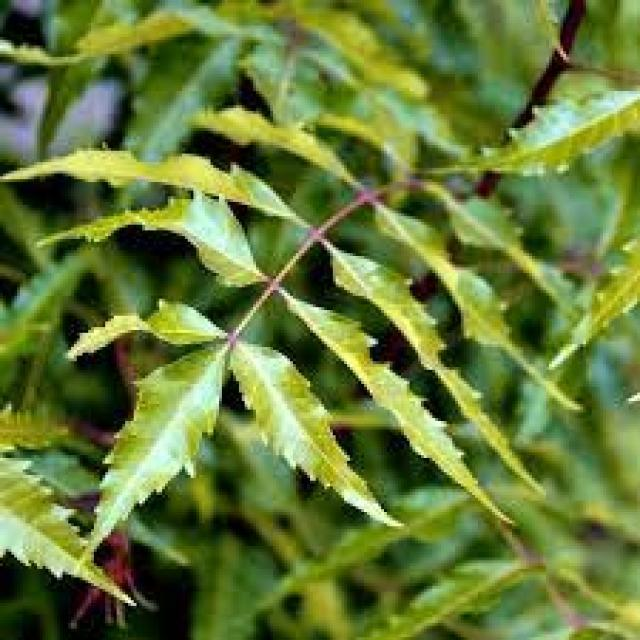Wet: (100, 344, 393, 549)
